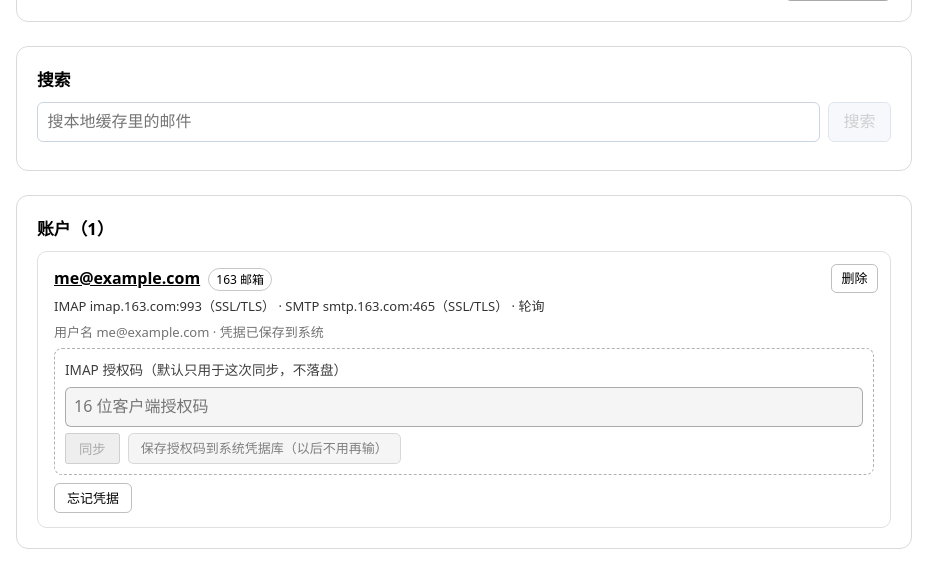
it: 邮件正文渲染 › 只有纯文本时按纯文本显示
The image size is (929, 566).
(page scrolled)
Click the button "me@example.com" at (127,278), box x1=54 y1=266 x2=200 y2=291
(page scrolled)
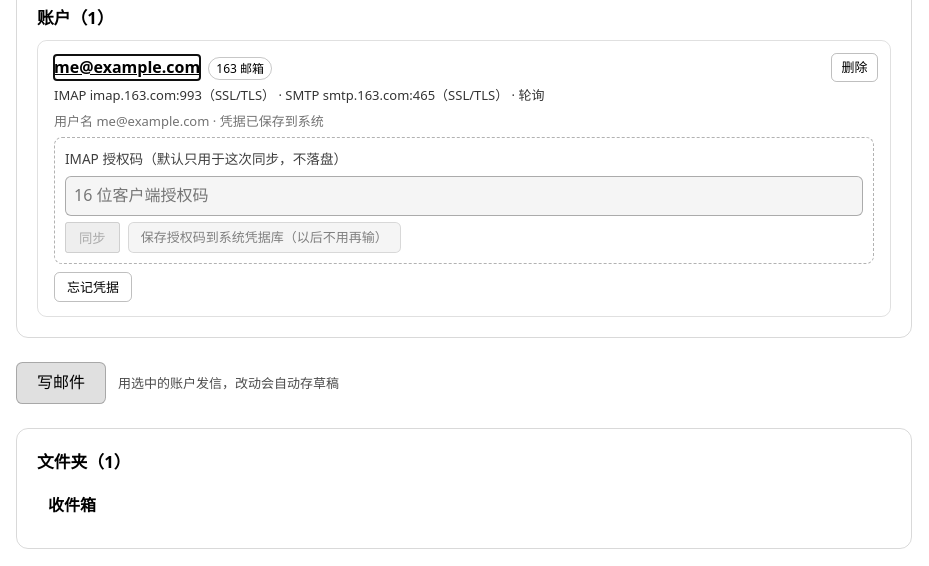
Click the button "收件箱" at (72,505), box x1=37 y1=484 x2=891 y2=528
(page scrolled)
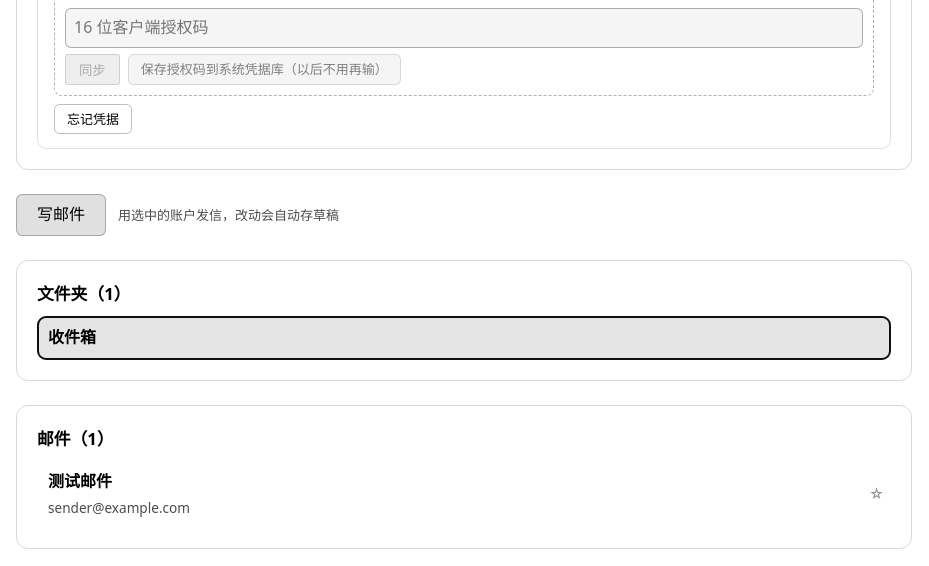
Click the button "测试邮件 sender@example.com" at (80,481), box x1=37 y1=460 x2=860 y2=528
(page scrolled)
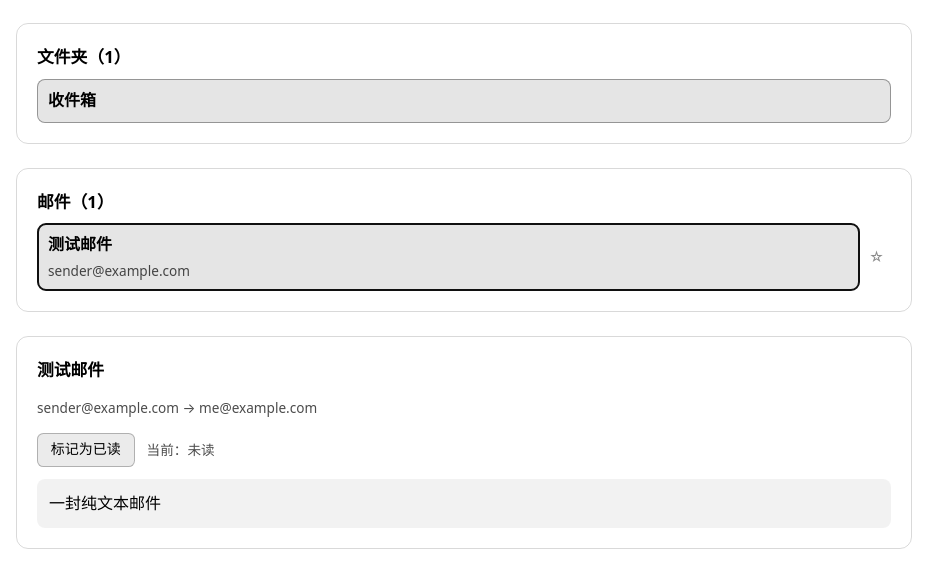
Check: the text "一封纯文本邮件" is shown, box x1=37 y1=478 x2=891 y2=528
